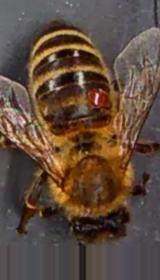varroa_mite: (81, 84, 116, 118)
